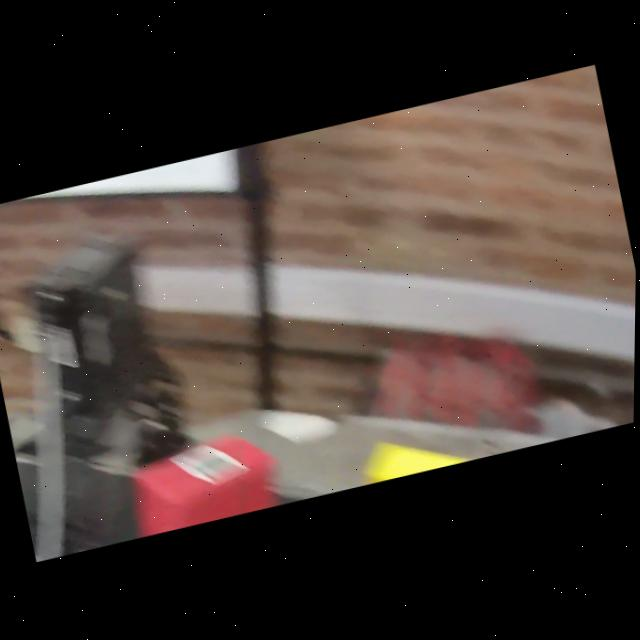redBox: (125, 417, 286, 537)
yellowBox: (336, 402, 503, 491)
